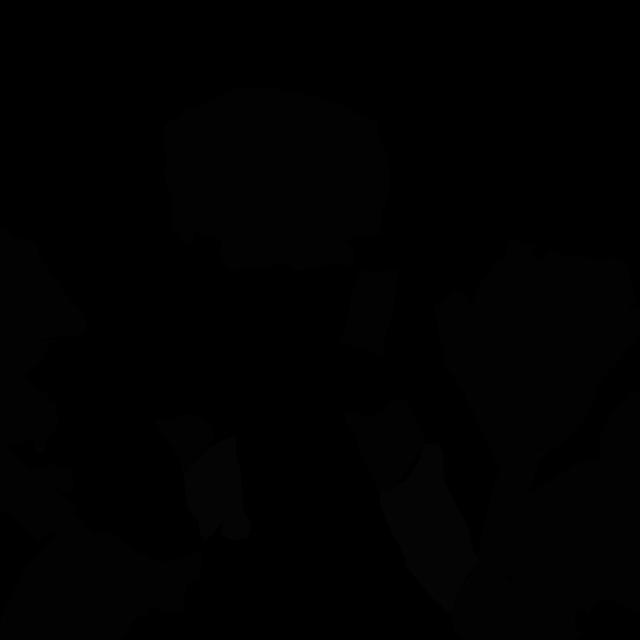cardboard: (433, 239, 640, 468), (162, 86, 390, 271), (0, 513, 202, 639), (487, 458, 640, 615), (473, 447, 550, 581), (0, 227, 88, 344), (451, 572, 584, 640), (0, 438, 78, 542), (0, 330, 61, 452), (345, 400, 424, 494), (339, 269, 399, 356), (596, 391, 640, 509), (154, 413, 213, 476), (45, 463, 75, 492)
soft_plastic: (380, 443, 479, 614), (184, 436, 251, 540)
